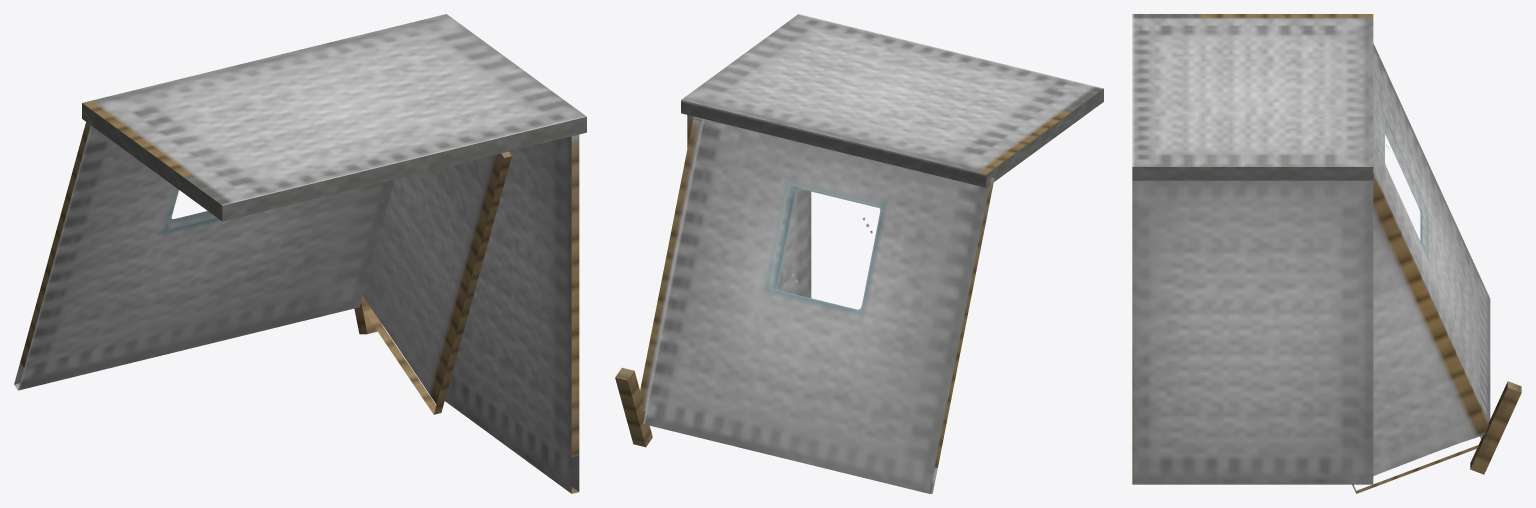
Rendered from tentPart2.obj.
The picture shows the model from 3 angles, left to right: view 1: azimuth 30°, elevation 25°; view 2: azimuth 150°, elevation 25°; view 3: azimuth 270°, elevation 25°; orthographic projection. The views are drawn at different scales.
Visible parts, largest first — view 1: cube; view 2: cube; view 3: cube.
Part boxes in pixels (x1,y1,x2,y2): cube: (14,14,586,493); cube: (615,14,1103,493); cube: (1132,14,1521,493).
Bounding box in the file's own units: 3 × 3.05 × 3.23.
1 material, 1 textured.
